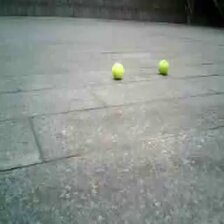tennis: (112, 61, 125, 78), (158, 59, 169, 74)
